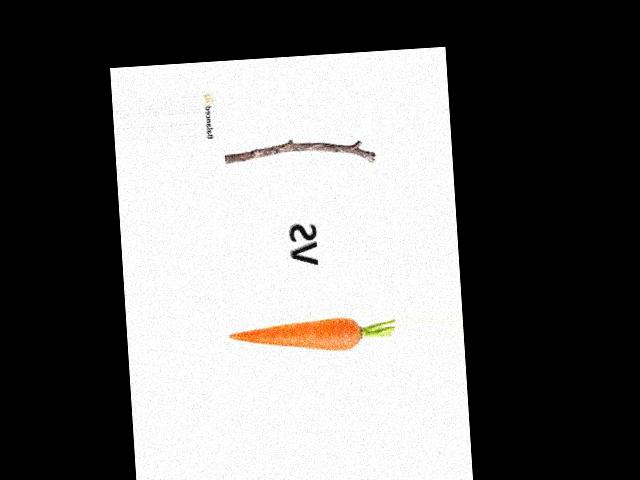carrot: (223, 306, 366, 364)
